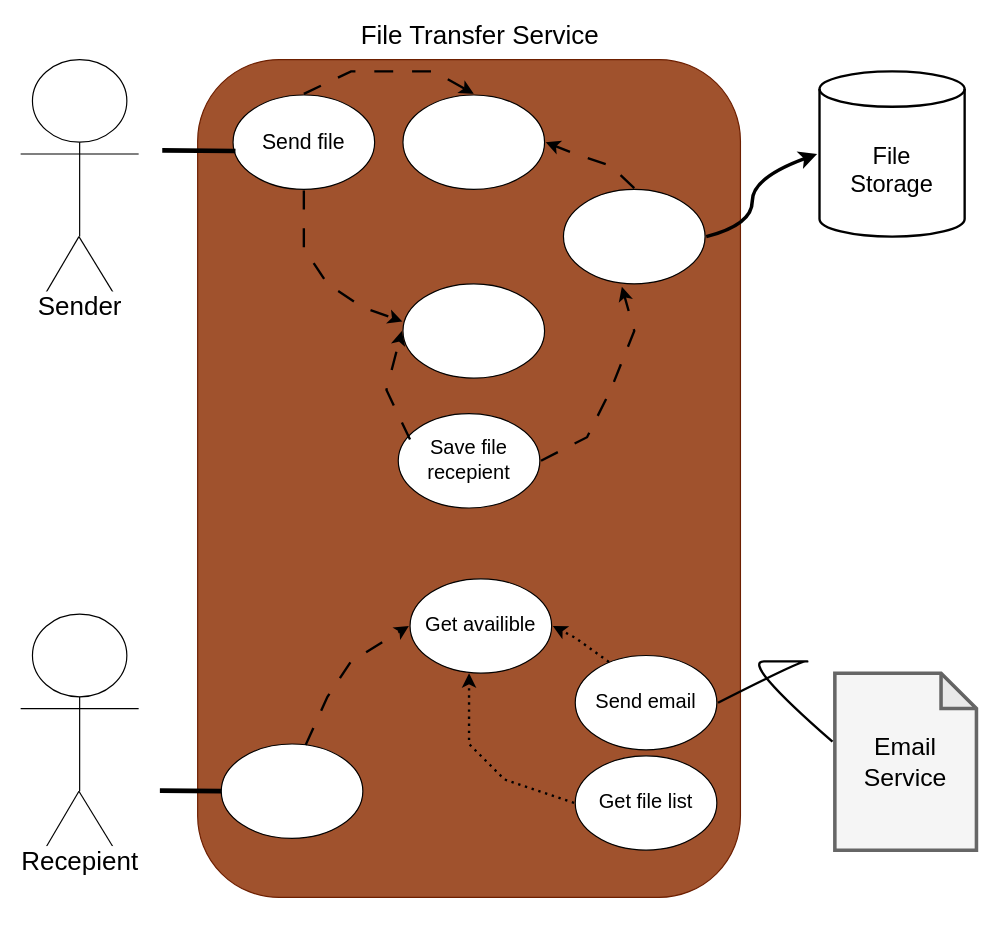
Image size: 998x931. Some labels were removed from this diagram. The centre of each missing label's shape, as x and y in pixels:
Get File: the point at 291,790
Specify recepient: the point at 473,330
Store file: the point at 633,236
Upload file: the point at 473,141
